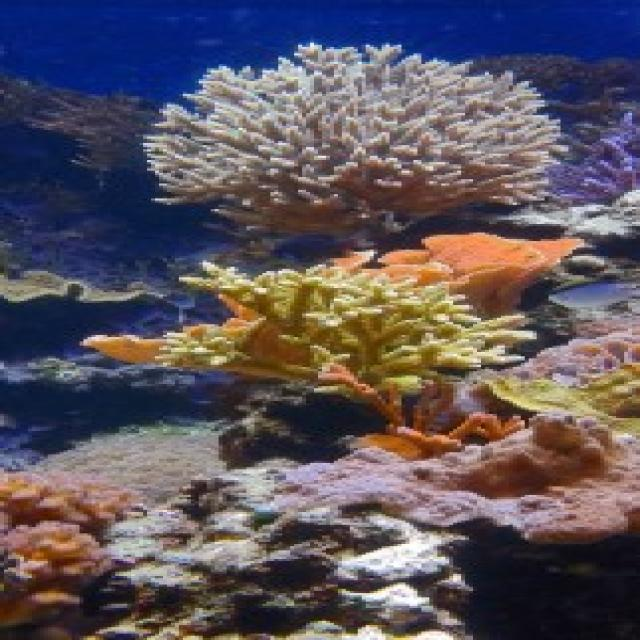Bleached: (144, 44, 558, 238), (84, 462, 470, 639)
Healthy: (84, 263, 530, 400), (279, 415, 637, 541), (1, 472, 136, 639), (482, 317, 637, 434), (391, 234, 581, 315), (554, 112, 637, 204)
